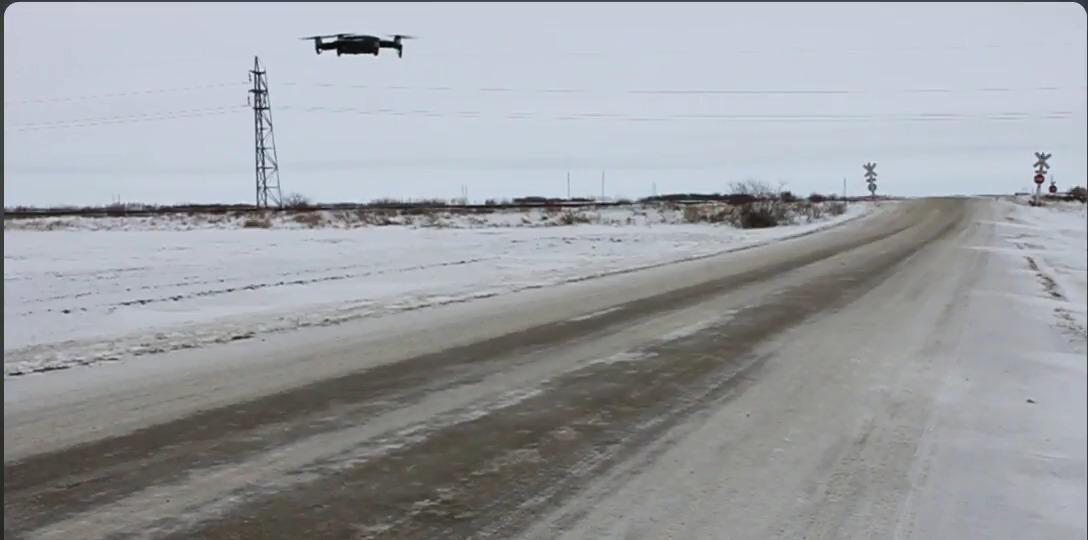dr: (299, 28, 425, 59)
